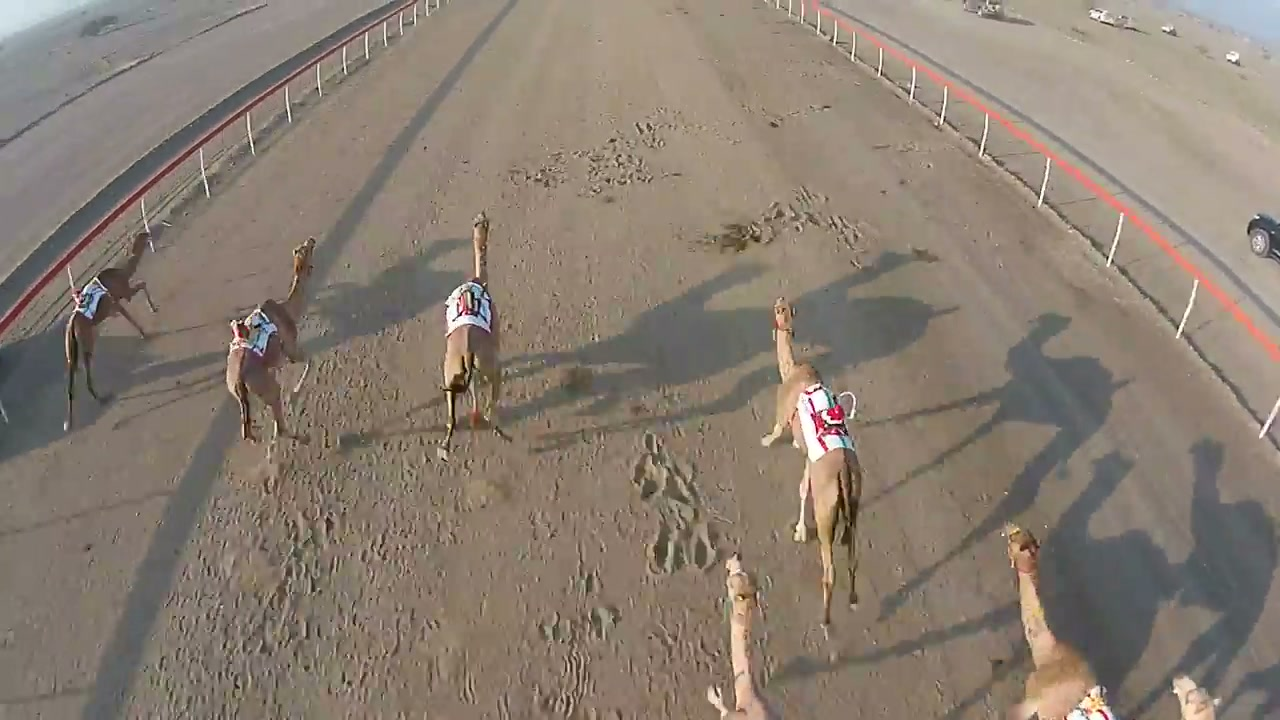animal_foot_print: (178, 397, 382, 689)
